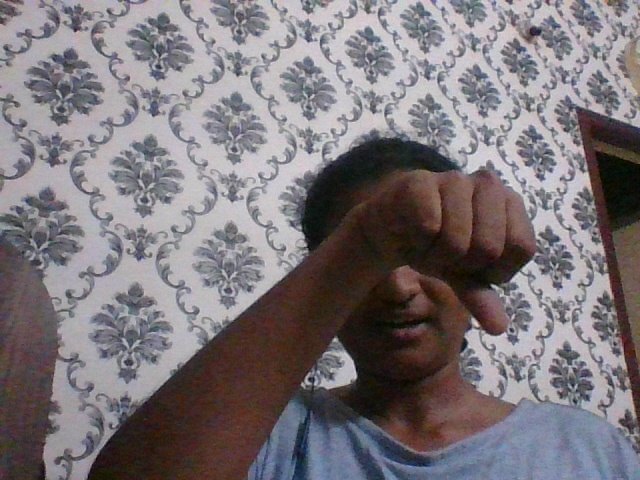yes: (347, 163, 544, 338)
